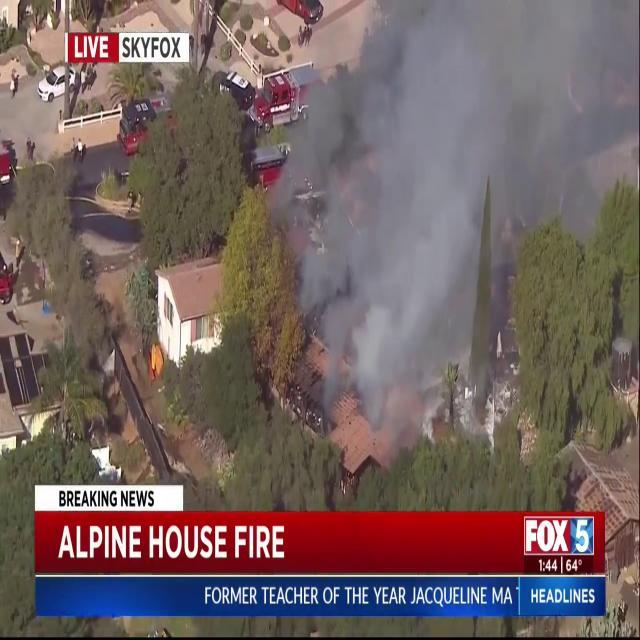Smoke: (271, 0, 634, 428), (270, 0, 504, 436)
